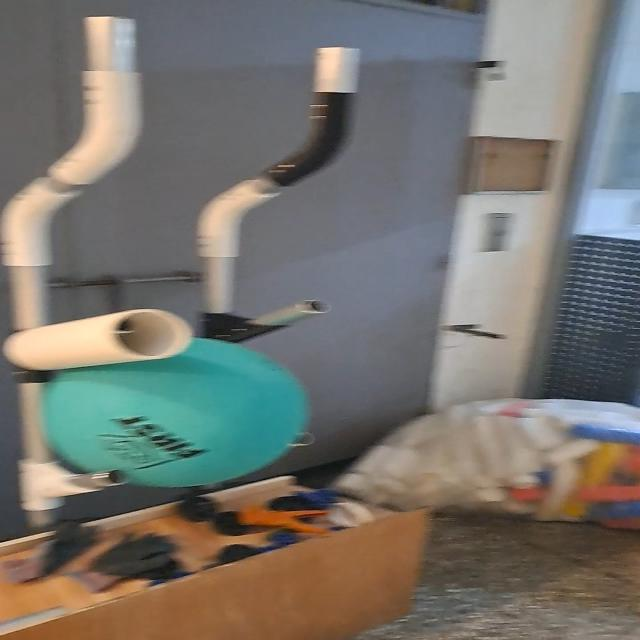ALGAE: (45, 336, 313, 488)
CORAL: (9, 306, 199, 376)
